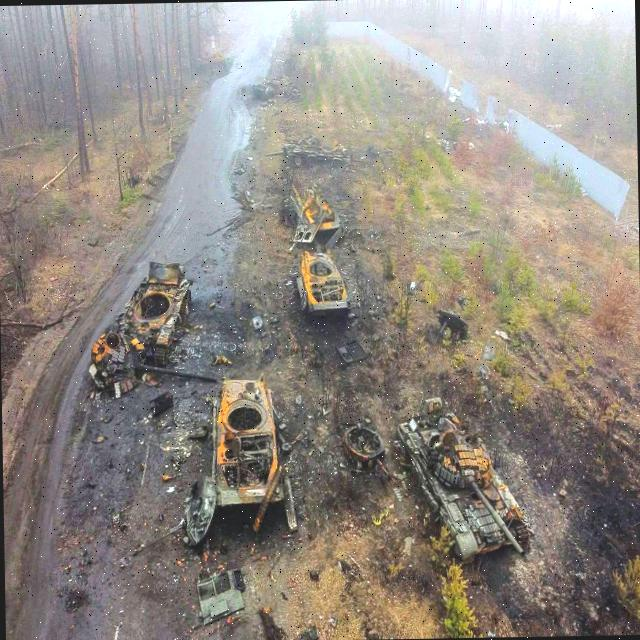Destroyed: (397, 408, 532, 566), (201, 375, 287, 518), (91, 257, 190, 378), (282, 187, 344, 245), (298, 253, 351, 318), (285, 137, 347, 170)
